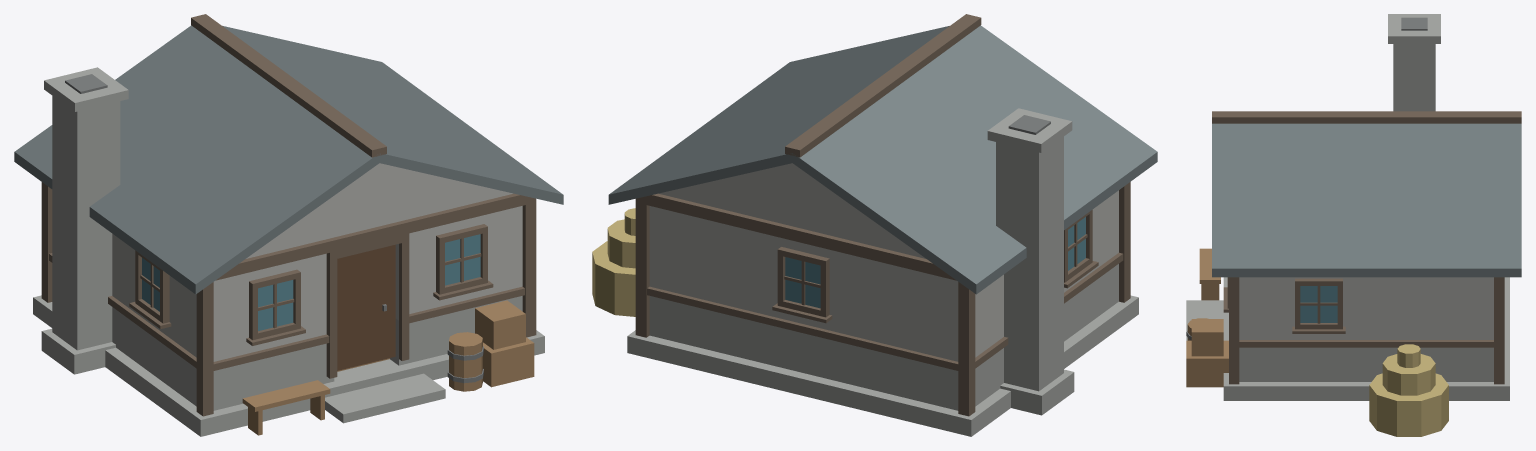
Rendered from farmhouse.glb.
The picture shows the model from 3 angles, left to right: view 1: azimuth 30°, elevation 25°; view 2: azimuth 150°, elevation 25°; view 3: azimuth 270°, elevation 25°; orthographic projection. The views are drawn at different scales.
Parts seen in each view (by area): view 1: Player; view 2: Player; view 3: Player.
Boxes of the visible parts, <box> form: Player: <box>14,14,563,436</box>; Player: <box>592,14,1157,436</box>; Player: <box>1186,14,1521,436</box>.
Size of the model in its own units: 8.59 by 4.85 by 6.32.
